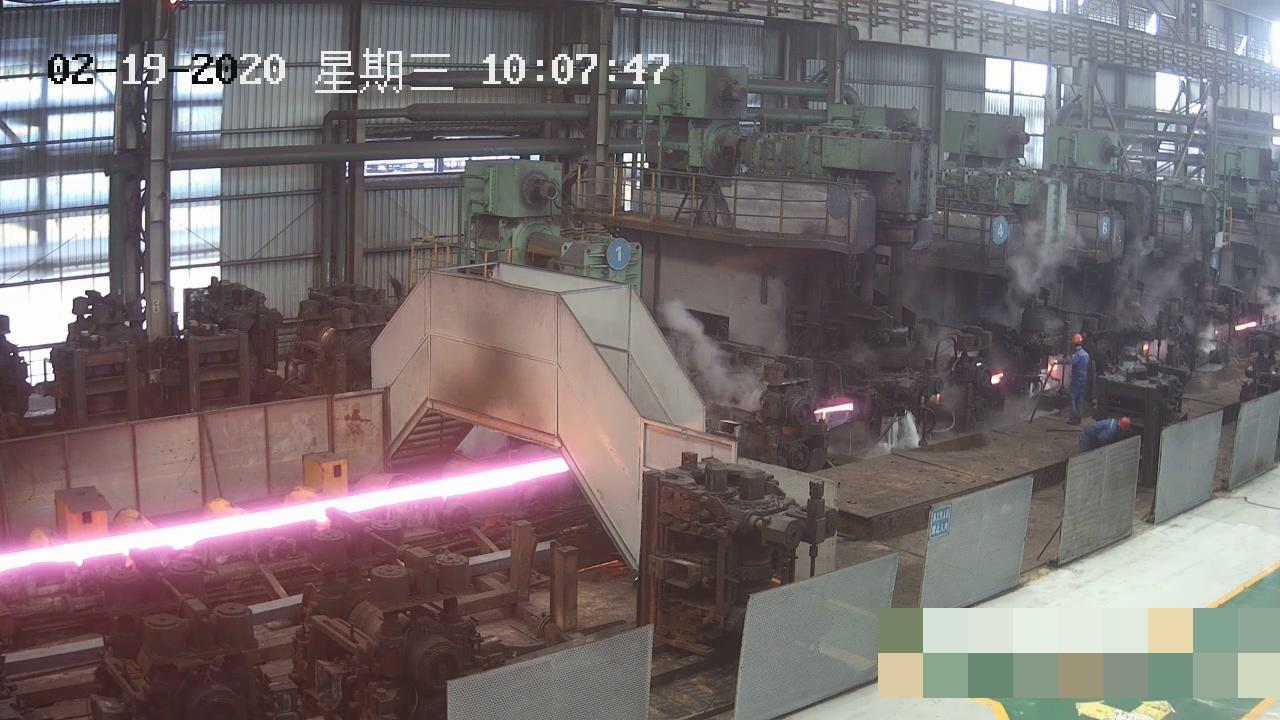hat: (1118, 416, 1132, 431), (1070, 332, 1083, 348)
person: (1049, 332, 1089, 426), (1076, 415, 1132, 456)
